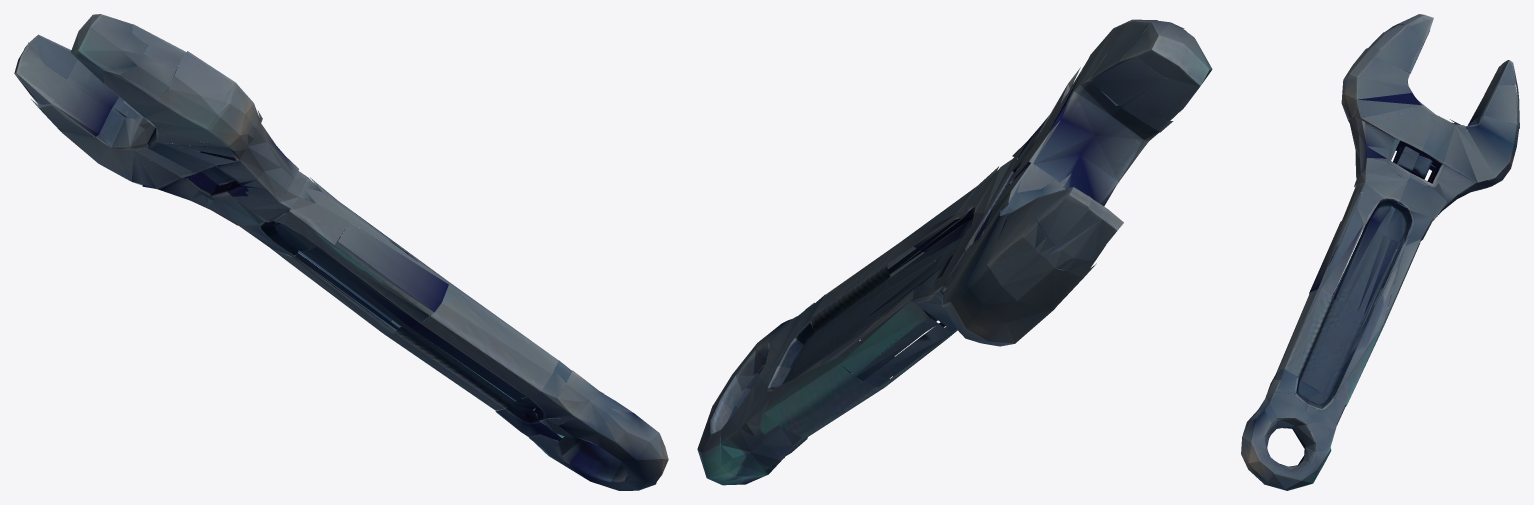
File: repair-wrench.glb
3 views of the same model, side by side, from view 1: azimuth 30°, elevation 25°; view 2: azimuth 150°, elevation 25°; view 3: azimuth 270°, elevation 25° (orthographic). The views are drawn at different scales.
Visible parts, largest first — view 1: tripo_node_965f1ad7-a7b4-4f36-81e7-0dd764994ae4; view 2: tripo_node_965f1ad7-a7b4-4f36-81e7-0dd764994ae4; view 3: tripo_node_965f1ad7-a7b4-4f36-81e7-0dd764994ae4.
Part boxes in pixels (left/top/right/bottom): tripo_node_965f1ad7-a7b4-4f36-81e7-0dd764994ae4: left=14, top=14, right=668, bottom=490; tripo_node_965f1ad7-a7b4-4f36-81e7-0dd764994ae4: left=697, top=19, right=1212, bottom=485; tripo_node_965f1ad7-a7b4-4f36-81e7-0dd764994ae4: left=1241, top=14, right=1519, bottom=490.
Bounding box in the file's own units: 0.9928 × 0.9986 × 0.7515.
Materials: 1 (1 with a texture image).
